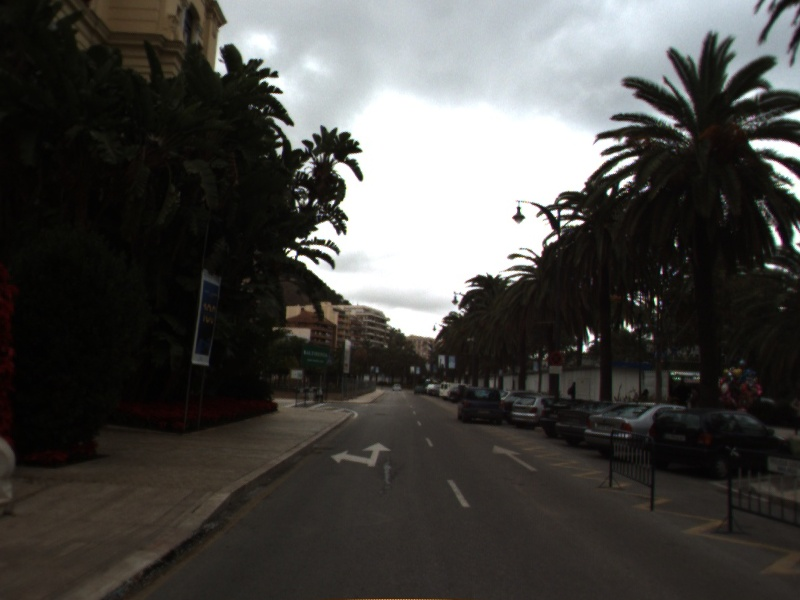STRAIGHT: (490, 442, 539, 473)
STRAIGHT_LEFT: (328, 439, 395, 469)
